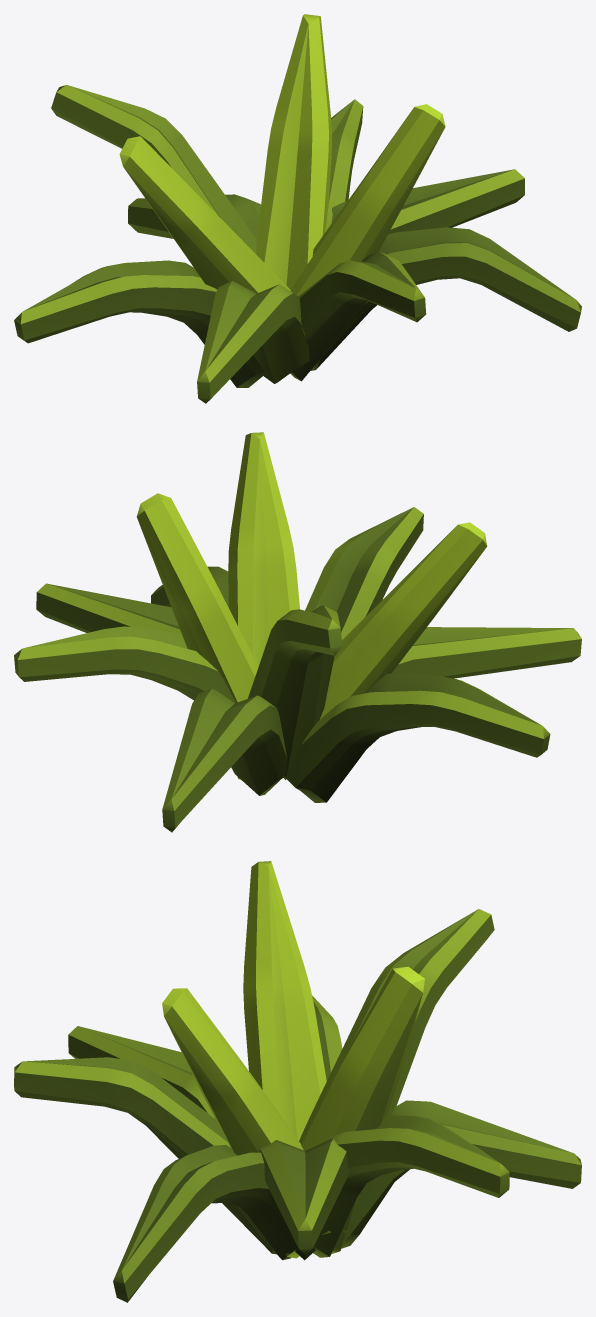
The model's file is tall_grass_green_LOD_group.fbx.
The picture shows the model from 3 angles, top to bottom: view 1: azimuth 30°, elevation 25°; view 2: azimuth 150°, elevation 25°; view 3: azimuth 270°, elevation 25°; orthographic projection. The views are drawn at different scales.
Parts seen in each view (by area): view 1: tall_grass_green_LOD0; view 2: tall_grass_green_LOD0; view 3: tall_grass_green_LOD0.
Boxes of the visible parts, box(x1,y1,x2,y2) form: tall_grass_green_LOD0: box(14, 14, 581, 403); tall_grass_green_LOD0: box(14, 432, 581, 832); tall_grass_green_LOD0: box(14, 861, 581, 1302).
Size of what is drawn, in the model's own units: 234 by 138 by 215.
Materials: 1 (1 with a texture image).
